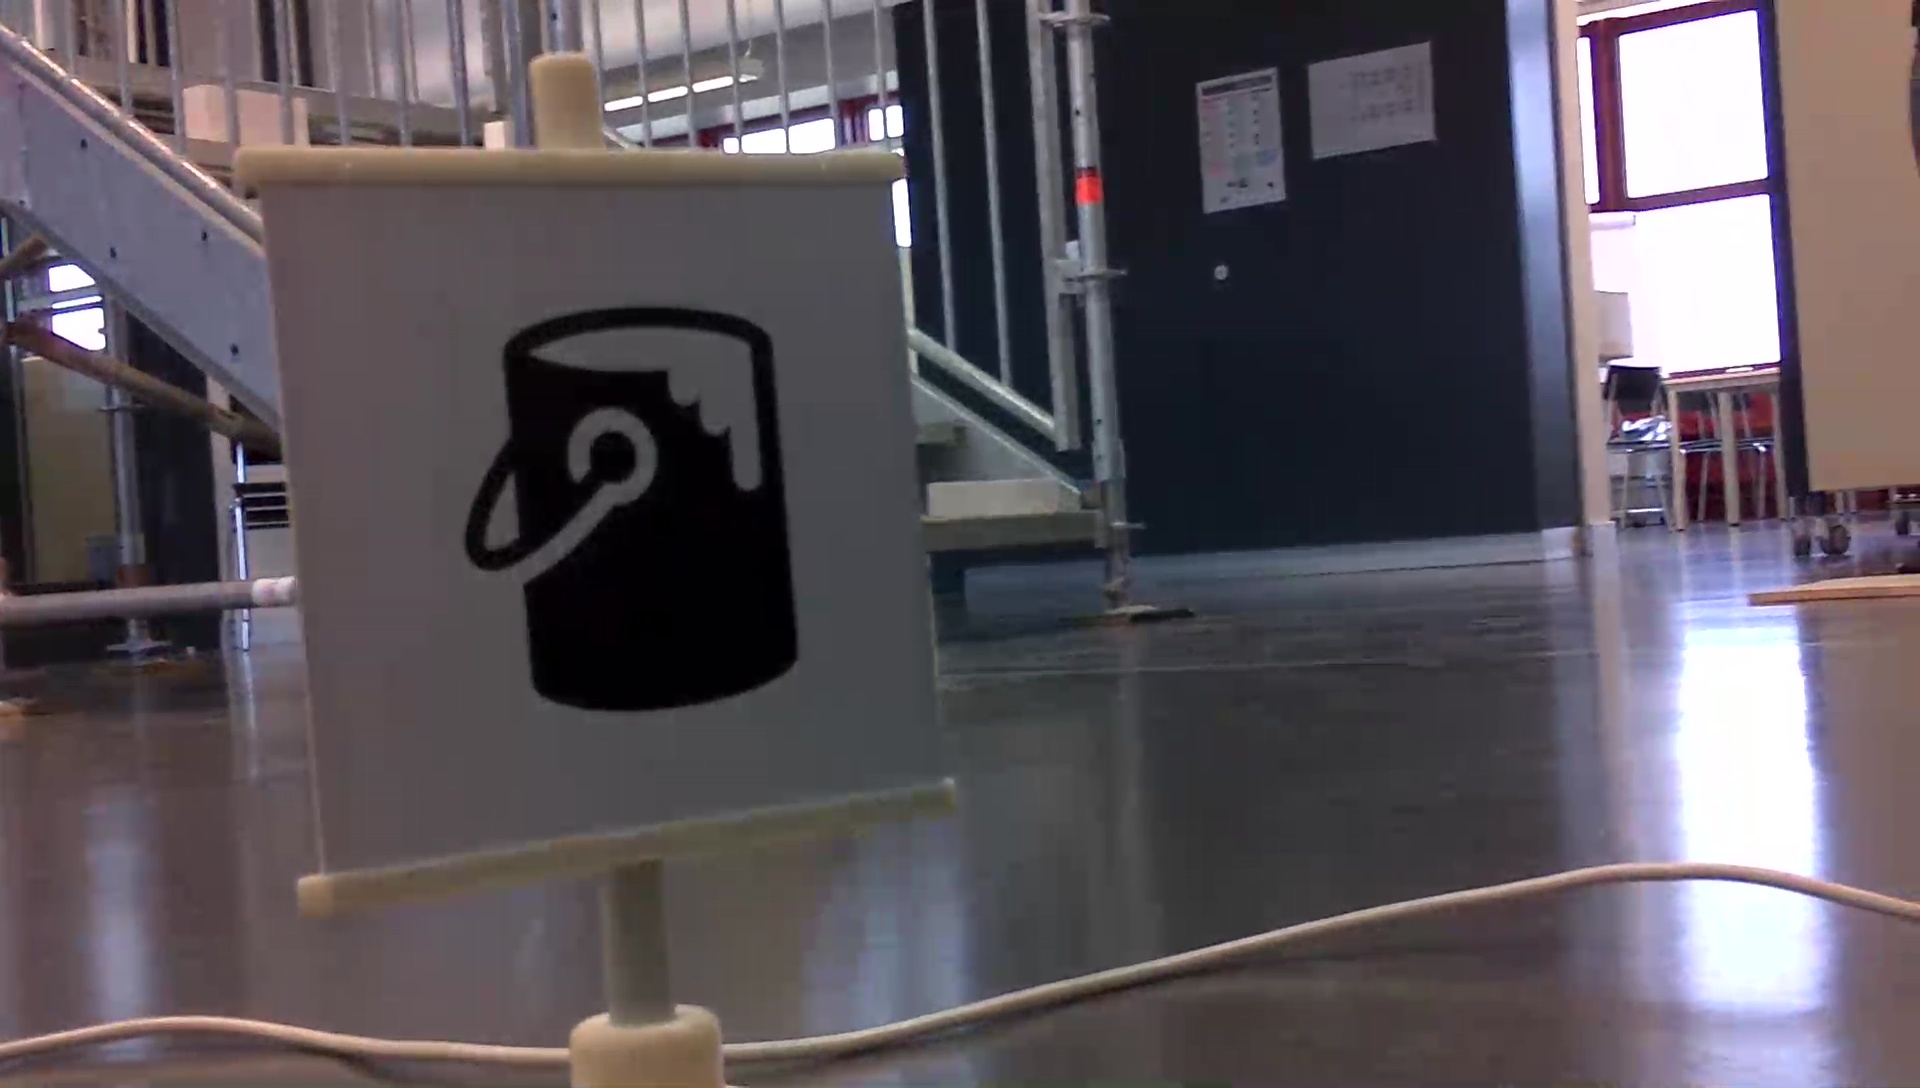brick: (928, 481, 1058, 513)
bucket: (452, 298, 814, 721)
